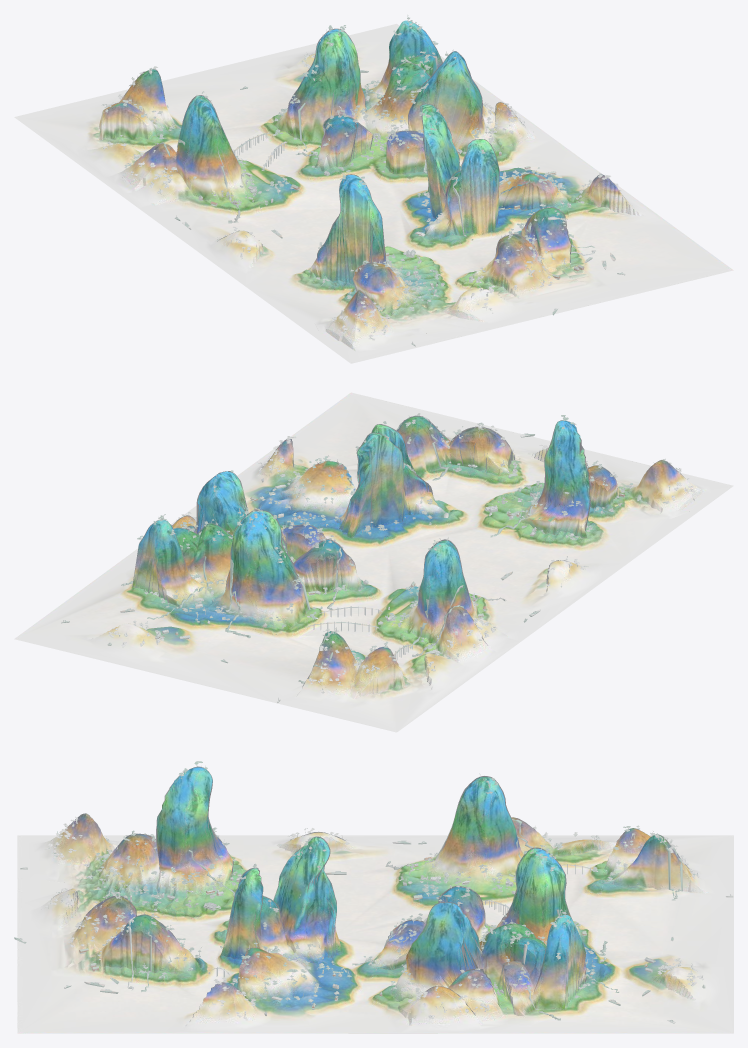
File: optimized-mountain-and-river.glb
3 renders of one model, top to bottom at view 1: azimuth 30°, elevation 25°; view 2: azimuth 150°, elevation 25°; view 3: azimuth 270°, elevation 25°, orthographic. The views are drawn at different scales.
Parts seen in each view (by area): view 1: Main_Material.002_0, Accesories_VertexCollor_0, Outline_VertexCollorBackFace_0; view 2: Main_Material.002_0, Accesories_VertexCollor_0, Outline_VertexCollorBackFace_0; view 3: Main_Material.002_0, Accesories_VertexCollor_0, Outline_VertexCollorBackFace_0.
Boxes of the visible parts, <box> form: Main_Material.002_0: <box>14,20,733,363</box>; Accesories_VertexCollor_0: <box>101,15,625,346</box>; Outline_VertexCollorBackFace_0: <box>112,20,625,303</box>; Main_Material.002_0: <box>14,392,733,732</box>; Accesories_VertexCollor_0: <box>61,413,694,702</box>; Outline_VertexCollorBackFace_0: <box>132,415,694,689</box>; Main_Material.002_0: <box>17,767,733,1033</box>; Accesories_VertexCollor_0: <box>14,761,733,1023</box>; Outline_VertexCollorBackFace_0: <box>53,766,692,1016</box>.
Size of the model in its own units: 104 by 29.31 by 160.
3 materials, 1 textured.
